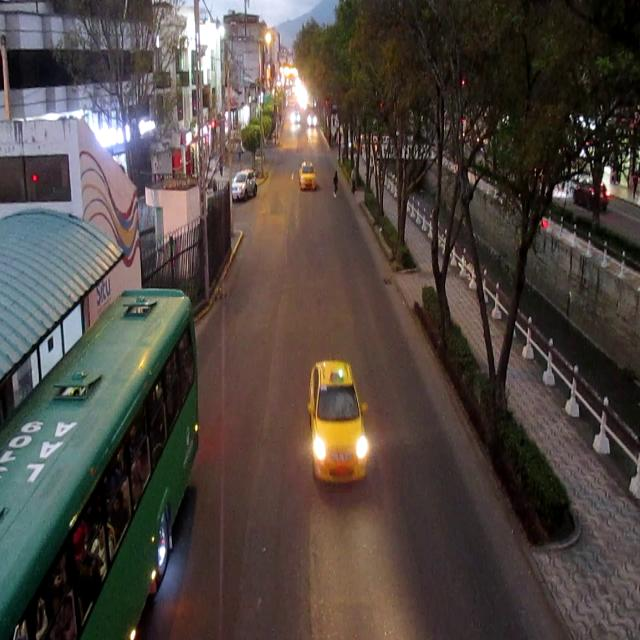BUS: (4, 288, 202, 638)
SUV: (233, 171, 258, 200)
